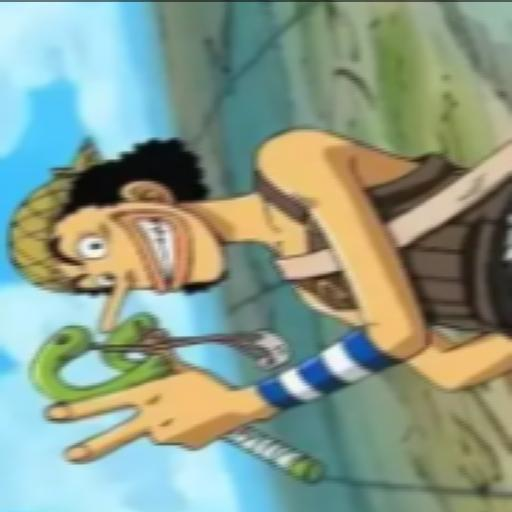Usopp: (3, 117, 512, 481)
